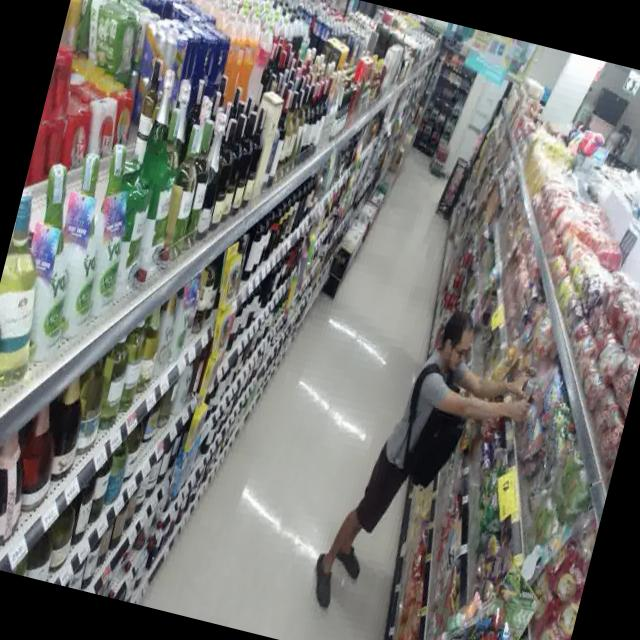pickup: (296, 282, 561, 640)
